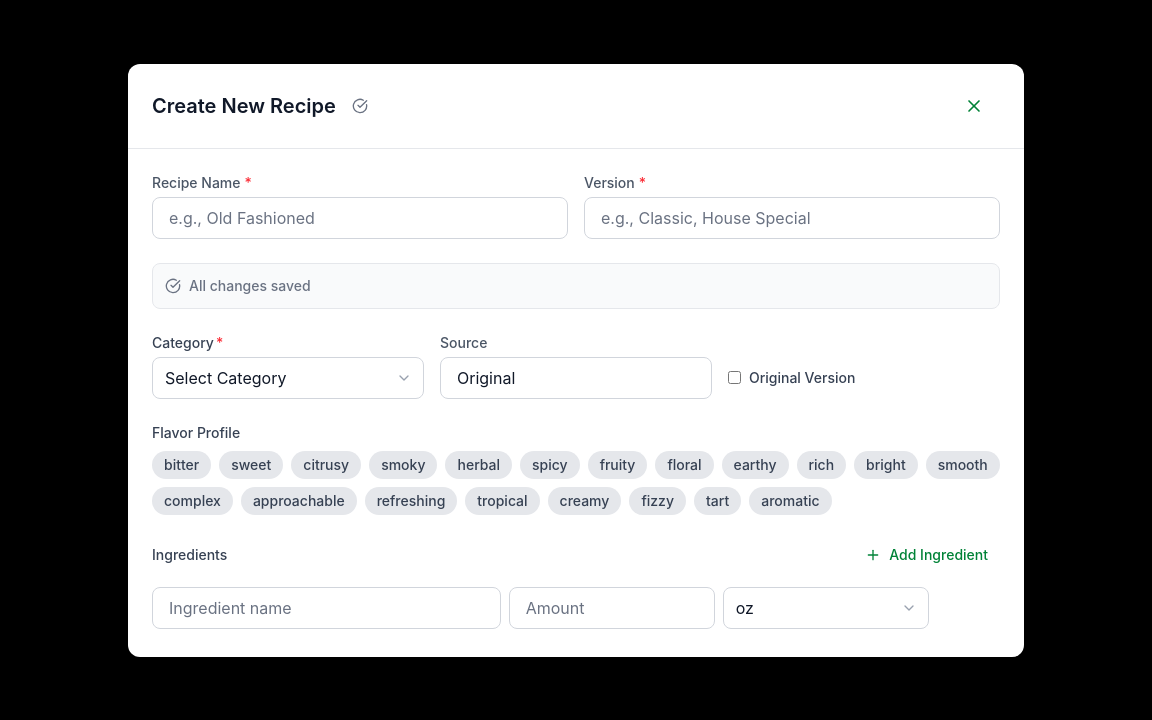
RecipeModal Component › shows autosave indicator
Type in form to trigger autosave
In the field with placeholder "e.g., Old Fashioned": (360, 218) [152,196,568,238], type "Auto Save Test"
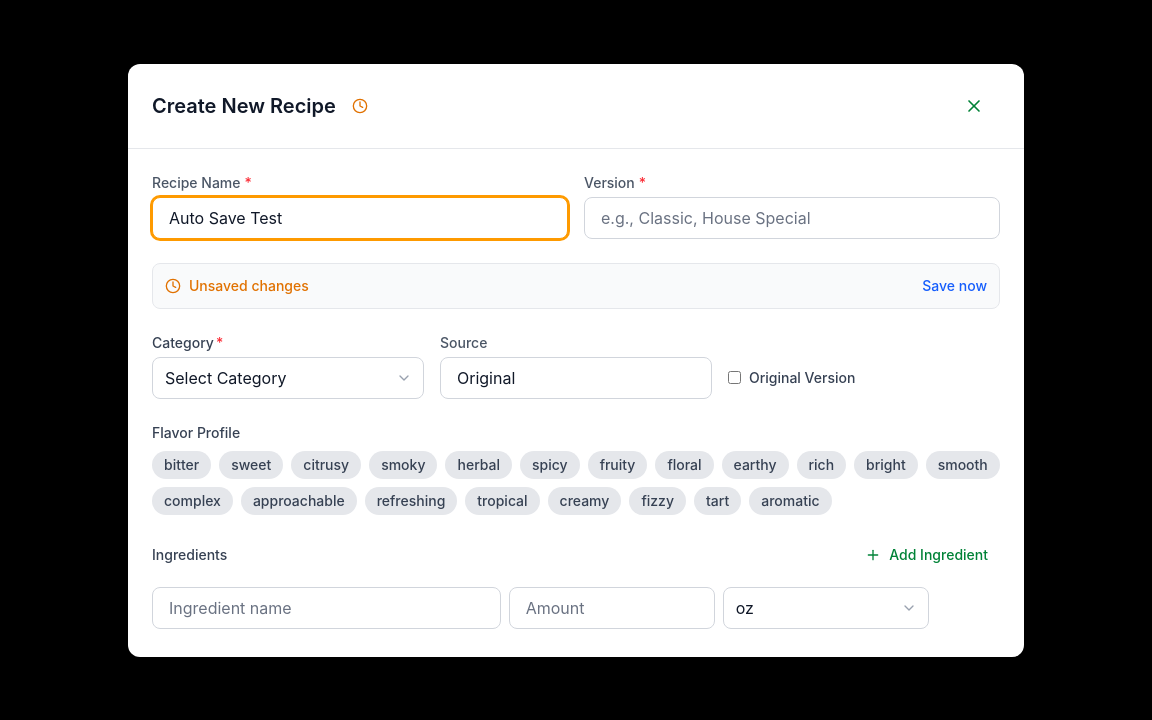
Expected: the text "Unsaved changes" is shown, [189,276,309,296]
